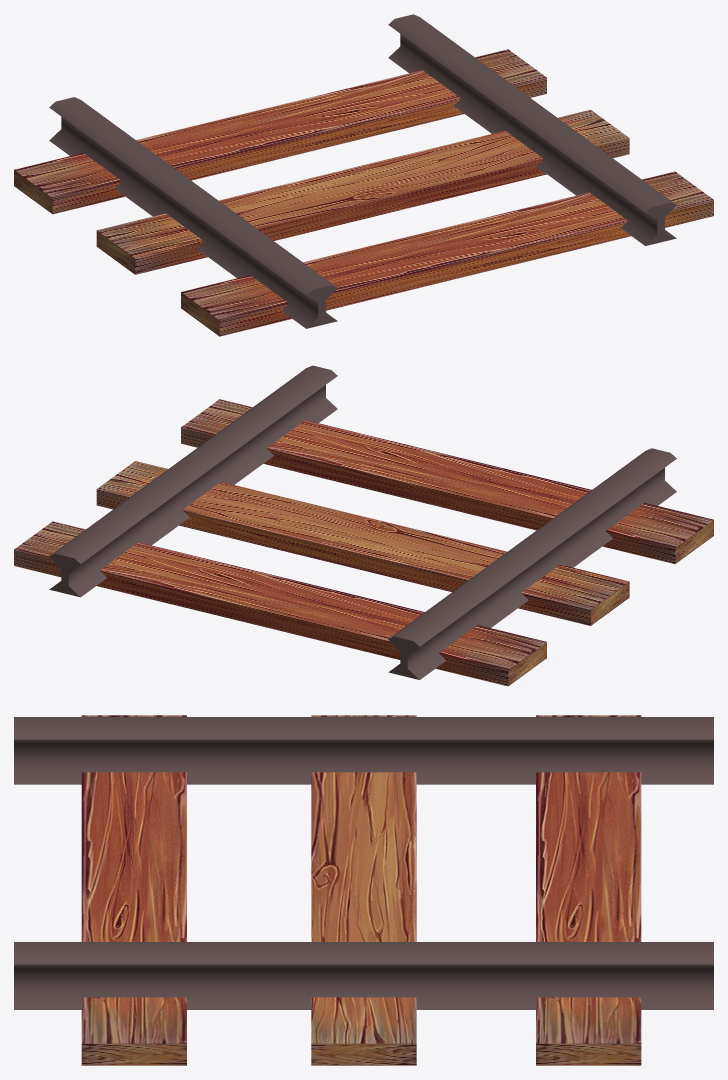
File: RailroadStraight.fbx
3 renders of one model, top to bottom at view 1: azimuth 30°, elevation 25°; view 2: azimuth 150°, elevation 25°; view 3: azimuth 270°, elevation 25°, orthographic. The views are drawn at different scales.
Parts seen in each view (by area): view 1: polySurface19; view 2: polySurface19; view 3: polySurface19.
Part boxes in pixels (x1,y1,x2,y2): polySurface19: (14,14,713,336); polySurface19: (14,365,713,686); polySurface19: (14,715,713,1065).
Bounding box in the file's own units: 15.6 × 1.46 × 14.06.
2 materials, 1 textured.
